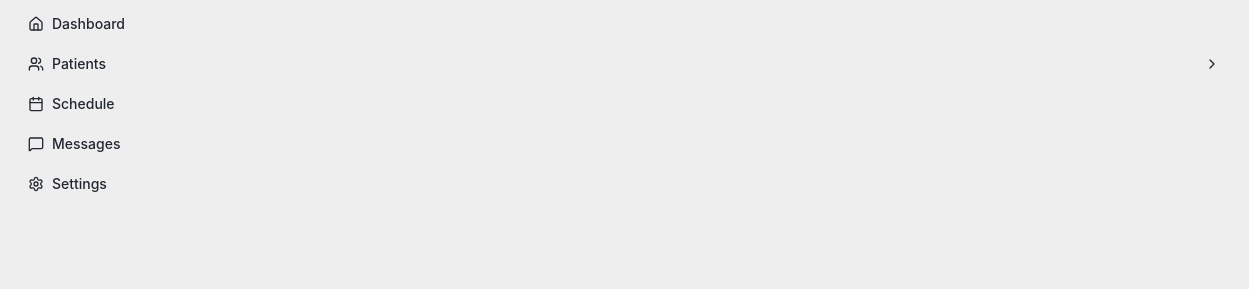
Test: Navigation › Nested menu items › filters nested items by role
What coordinates should you click on to do the following:
click the button "Patients"
I would click on:
 (79, 64)
Its box is [16,46,1232,82].
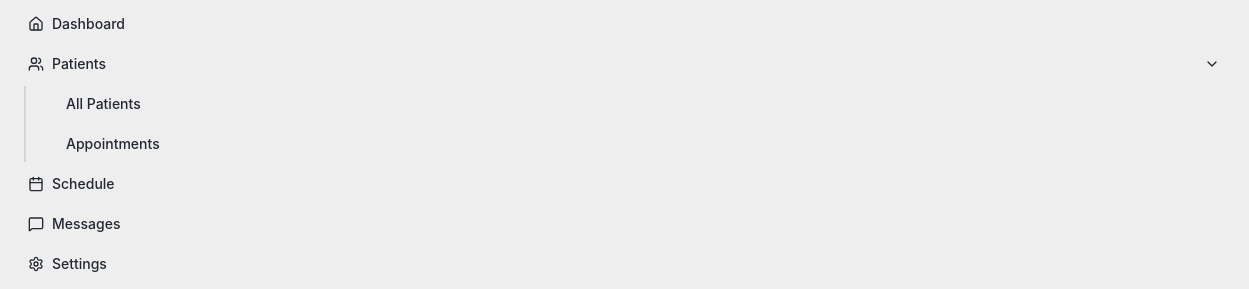
Now the text "All Patients" is shown, box [66,94,141,114]
Now the text "Appointments" is shown, box [66,134,160,154]
